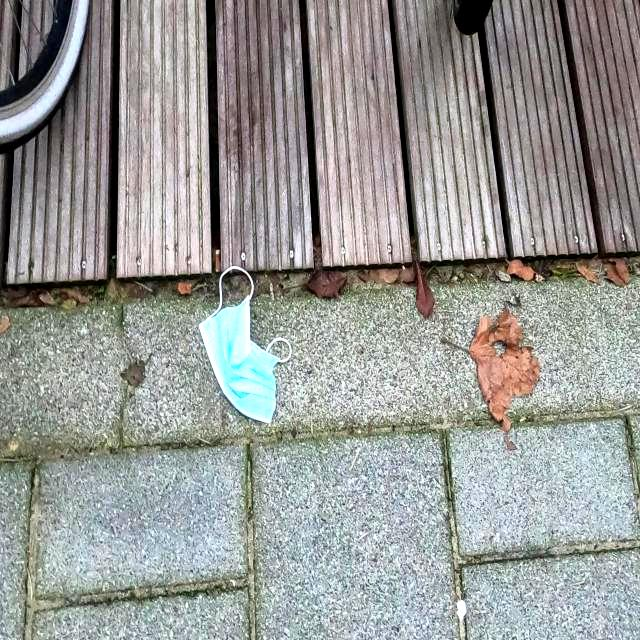Mask: (195, 264, 293, 428)
